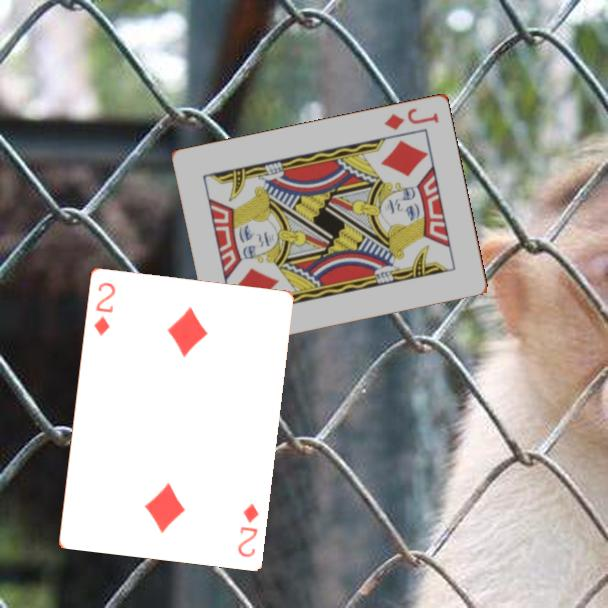d02: (90, 278, 118, 338), (234, 499, 261, 560)
d11: (381, 104, 442, 132)
